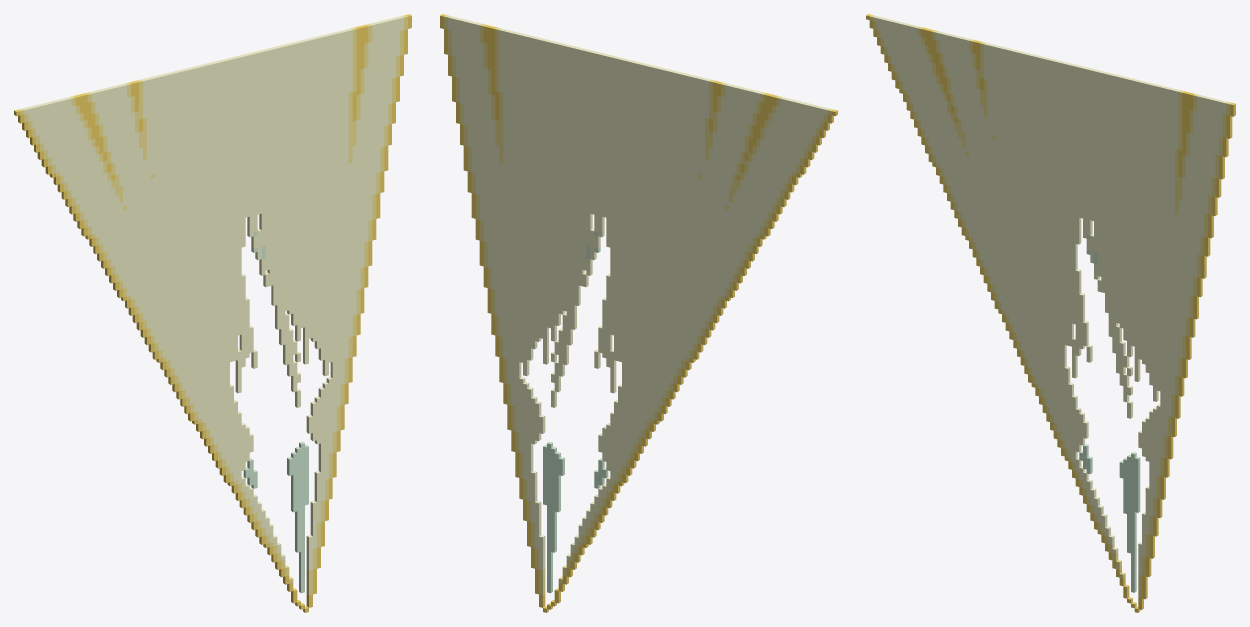
The model's file is Fight_720_2_23_fx.obj.
3 renders of one model, left to right at view 1: azimuth 30°, elevation 25°; view 2: azimuth 150°, elevation 25°; view 3: azimuth 330°, elevation 25°, orthographic. The views are drawn at different scales.
Size of the model in its own units: 10 by 13.8 by 0.1.
